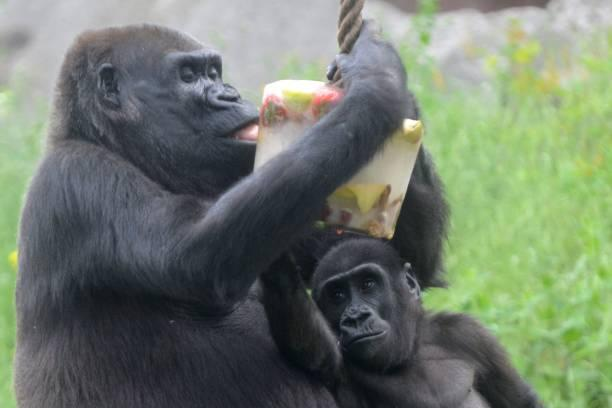gorille_Autres: (31, 5, 505, 408)
